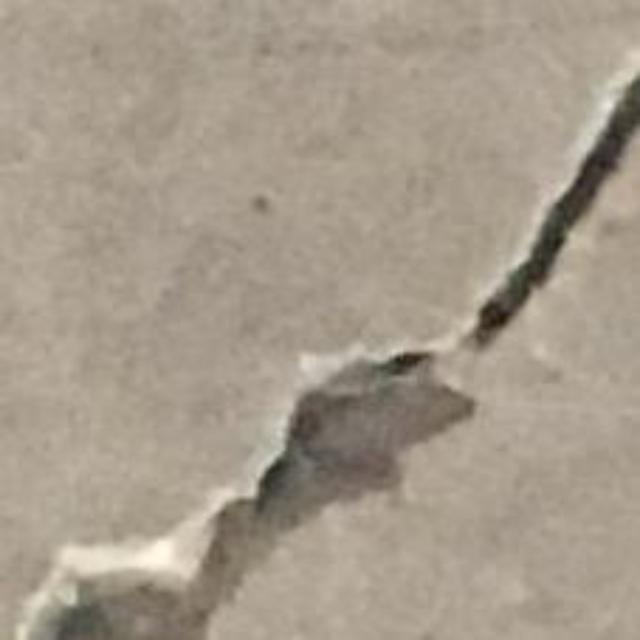crack: (15, 65, 639, 639)
